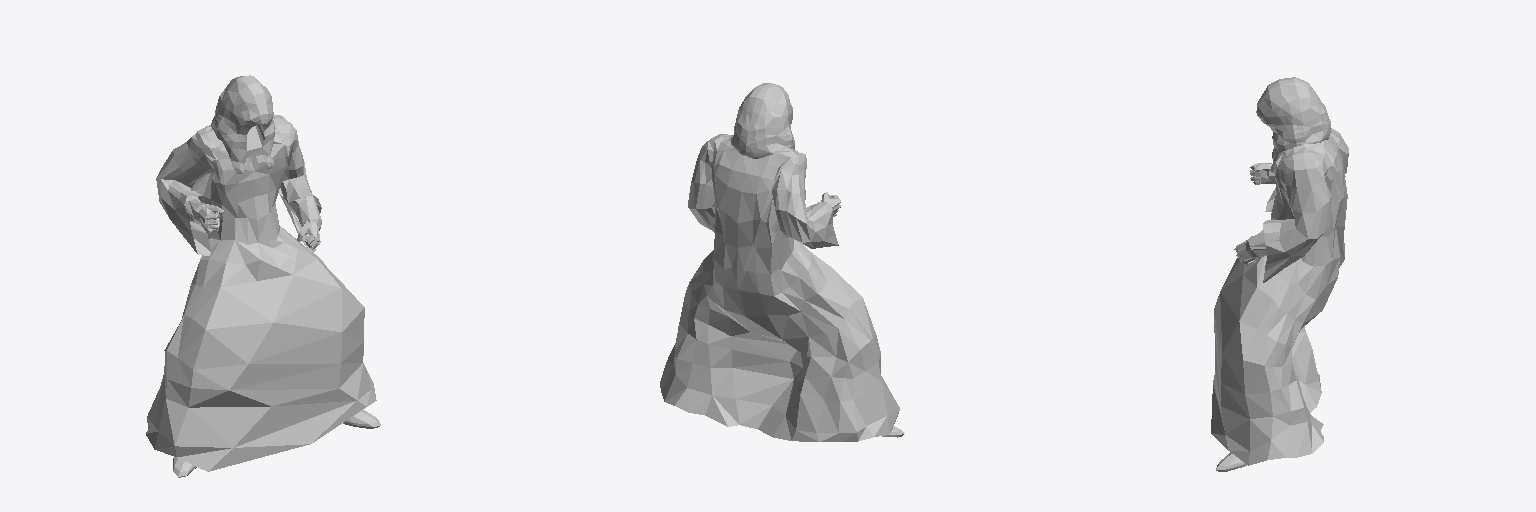
The model's file is Rider_Animate_Grab_Glide_39.obj.
The picture shows the model from 3 angles: view 1: azimuth 30°, elevation 25°; view 2: azimuth 150°, elevation 25°; view 3: azimuth 270°, elevation 25°; orthographic projection.
Visible parts, largest first — view 1: dm_nazgulrobe_ride_241108; view 2: dm_nazgulrobe_ride_241108; view 3: dm_nazgulrobe_ride_241108.
Boxes of the visible parts, x1=… form: dm_nazgulrobe_ride_241108: x1=146, y1=75, x2=380, y2=477; dm_nazgulrobe_ride_241108: x1=660, y1=83, x2=904, y2=441; dm_nazgulrobe_ride_241108: x1=1211, y1=77, x2=1348, y2=471.
Bounding box in the file's own units: 0.4413 × 0.6638 × 0.2366.